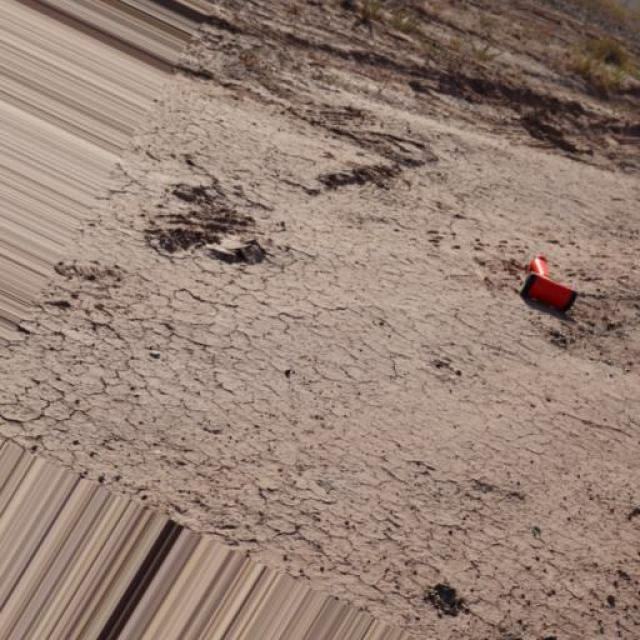mallet: (518, 254, 578, 312)
